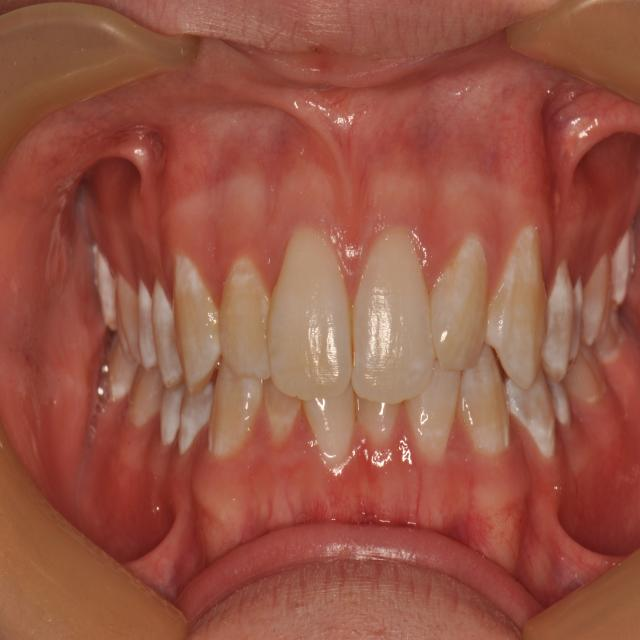tooth: (348, 237, 441, 403), (274, 227, 352, 392), (427, 260, 486, 376), (498, 239, 546, 380), (216, 284, 273, 378), (178, 264, 227, 373), (404, 375, 457, 447), (306, 391, 359, 461), (547, 261, 573, 378), (209, 393, 254, 460), (464, 360, 502, 437), (153, 280, 180, 374), (582, 251, 608, 345), (357, 392, 397, 453), (516, 388, 555, 444), (180, 382, 210, 447), (266, 401, 299, 457), (116, 278, 140, 350), (136, 284, 156, 364), (136, 368, 163, 421), (162, 385, 182, 438)
